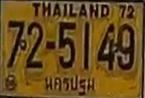1: (83, 22, 89, 67)
2: (26, 22, 44, 69)
4: (96, 22, 114, 69)
5: (58, 22, 75, 68)
7: (6, 20, 24, 66)
9: (116, 23, 134, 69)
NPT: (41, 72, 98, 96)
